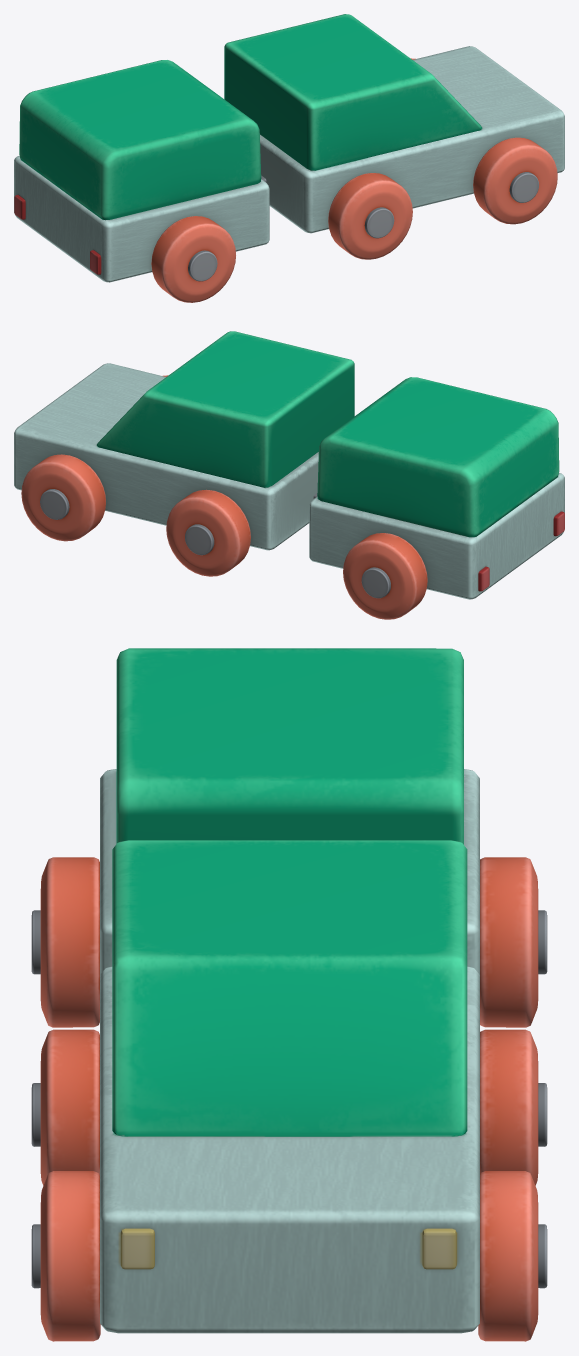
Rendered from prp_toyCar_model.FBX.
The picture shows the model from 3 angles, top to bottom: view 1: azimuth 30°, elevation 25°; view 2: azimuth 150°, elevation 25°; view 3: azimuth 270°, elevation 25°; orthographic projection. The views are drawn at different scales.
Visible parts, largest first — view 1: prp_toyCar_model; view 2: prp_toyCar_model; view 3: prp_toyCar_model.
Boxes of the visible parts, x1,y1,x2,y2 form: prp_toyCar_model: (14, 14, 564, 302); prp_toyCar_model: (14, 331, 564, 619); prp_toyCar_model: (31, 648, 547, 1341).
Size of what is drawn, in the model's own units: 37.04 by 17.66 by 11.6.
